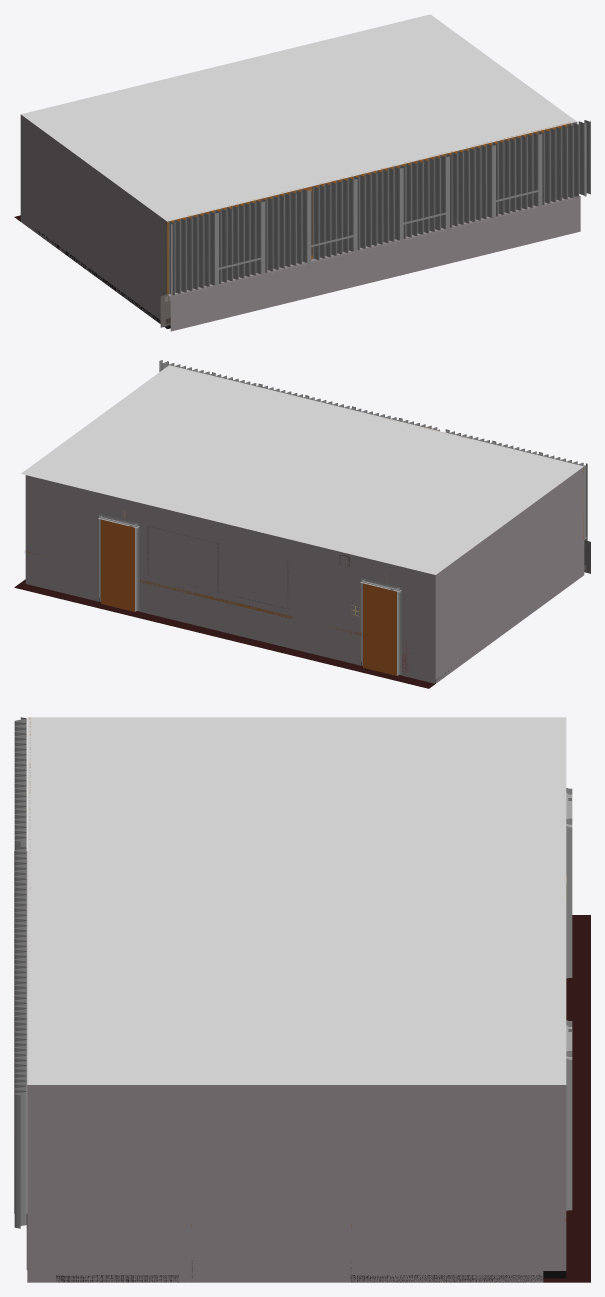
File: conference.obj
3 views of the same model, one above another, from view 1: azimuth 30°, elevation 25°; view 2: azimuth 150°, elevation 25°; view 3: azimuth 270°, elevation 25° (orthographic). The views are drawn at different scales.
Visible parts, largest first — view 1: scene; view 2: scene; view 3: scene.
Boxes of the visible parts, x1=… form: scene: x1=14, y1=14, x2=590, y2=331; scene: x1=14, y1=360, x2=590, y2=688; scene: x1=14, y1=717, x2=590, y2=1282.
Size of the model in its own units: 37.08 by 8.92 by 23.54.
